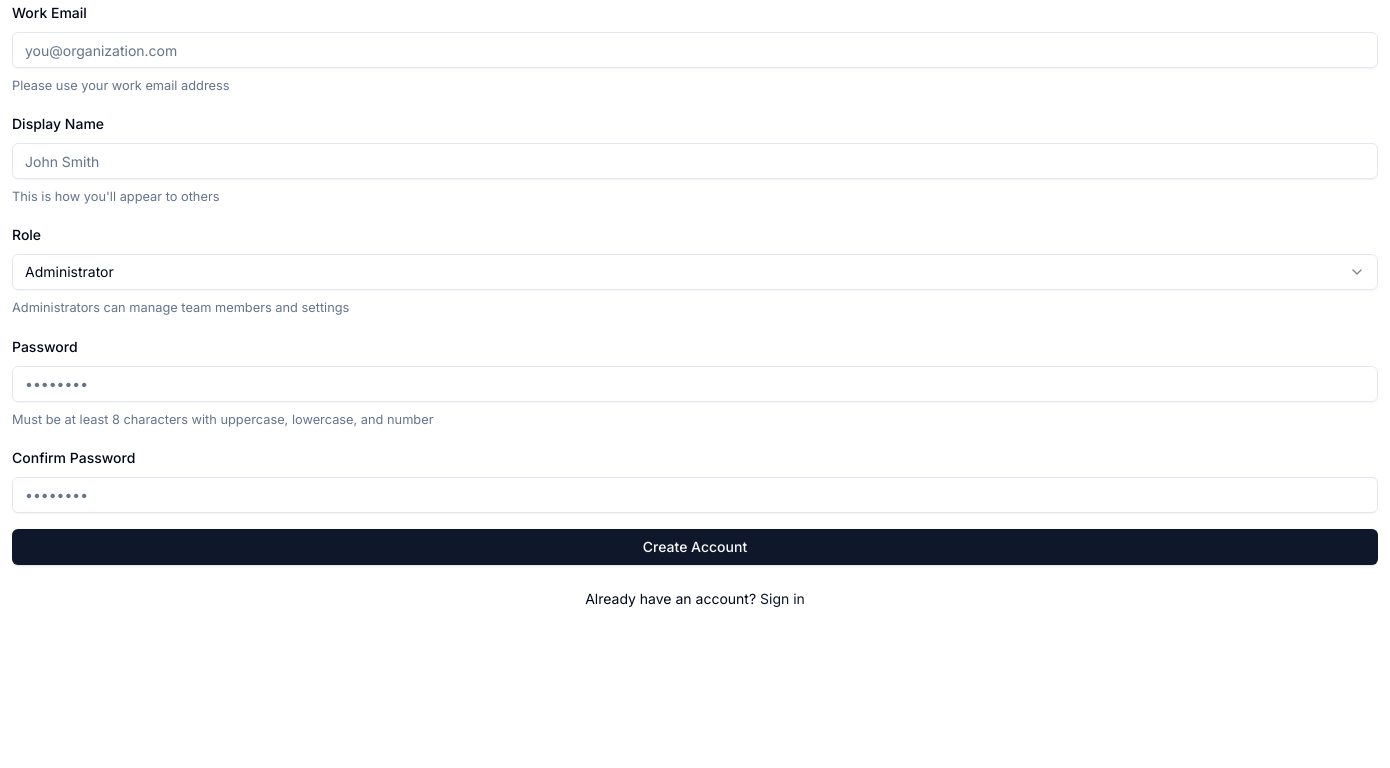
Test: Organization Signup Flow › should handle validation errors
# Submit without filling form
Click the button "Create Account" at (695, 547), box [12,529,1378,565]
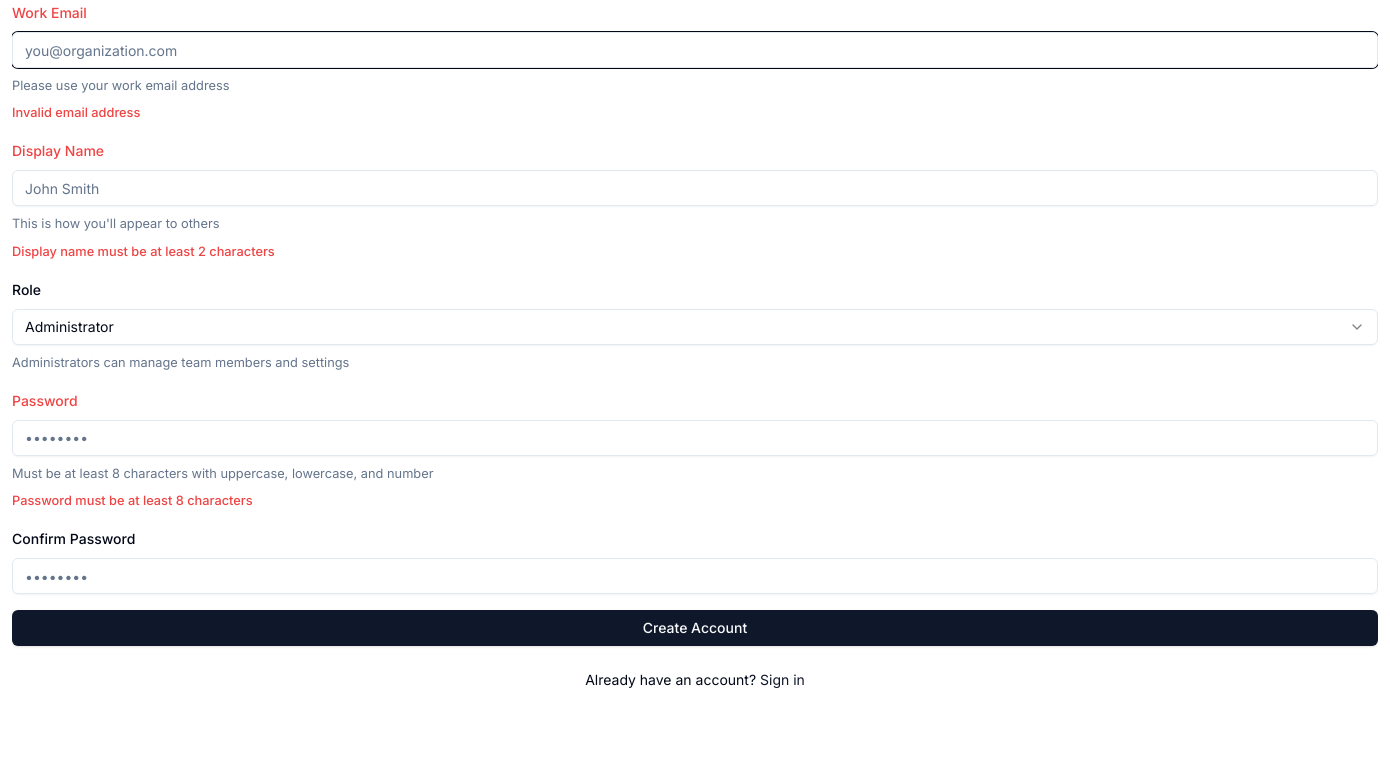
Now the text "Invalid email address" is shown, box [12,105,140,120]
Now the text "Password must be at least 8 characters" is shown, box [12,493,253,508]
Now the text "Display name must be at least 2 characters" is shown, box [12,244,275,259]
